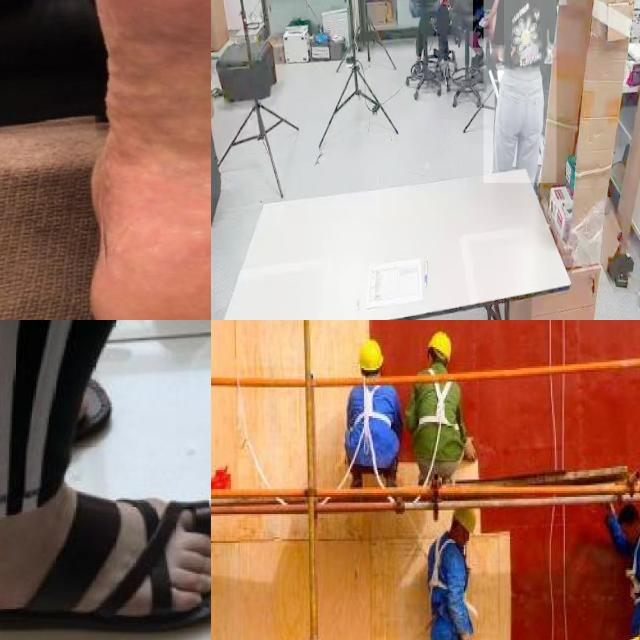Barefoots: (74, 0, 211, 320)
Harness: (351, 384, 391, 470), (418, 381, 460, 440)
Sandals: (0, 478, 211, 640)
hand_noglove: (483, 11, 493, 30)
person: (483, 0, 556, 183), (418, 0, 451, 85), (473, 0, 504, 48)
